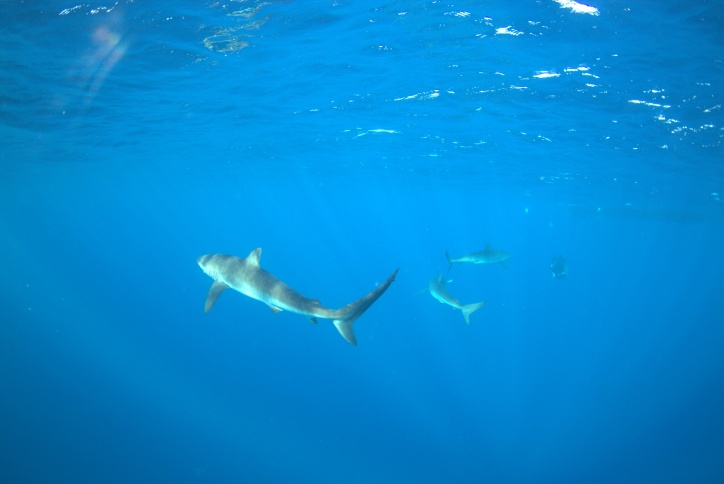Sedoso: (166, 226, 403, 373)
